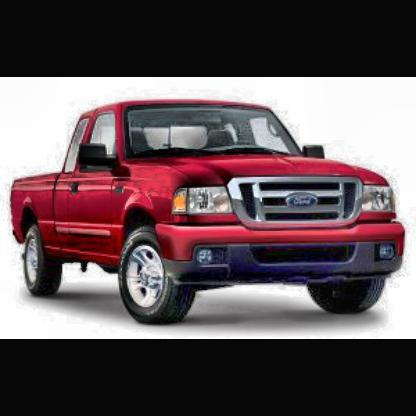Ford Ranger SuperCab 2011: (13, 101, 406, 328)
